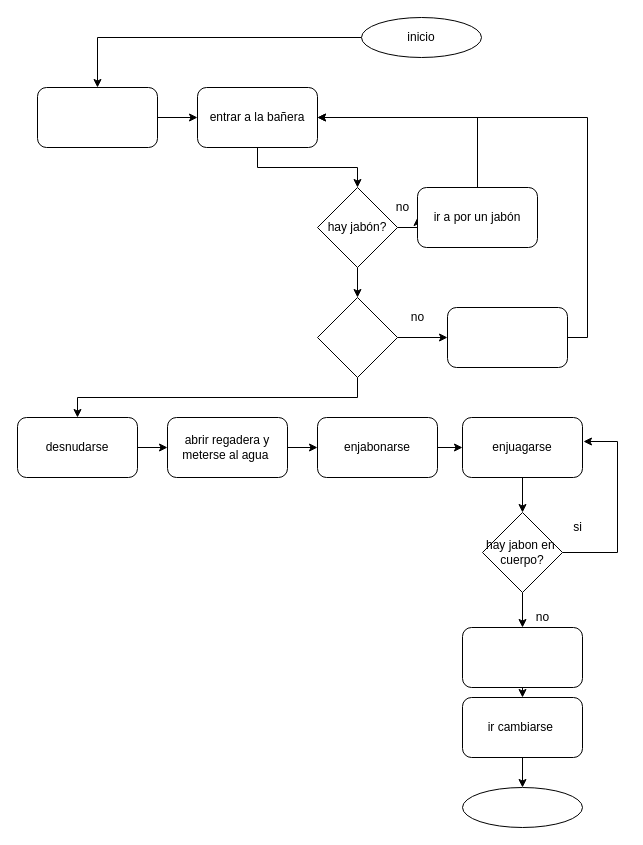
The diagram is 643 pixels wide and 845 high, and some of its shapes have lost their labels. The shapes that lost their labels are listed below. From the top down, each one's centre as x and y in pixels, then its label:
point (97, 117): dirigirse a la bañera
point (357, 337): hay toalla?
point (507, 337): ir a por una toalla
point (522, 657): ponerse una toalla
point (522, 807): fin
